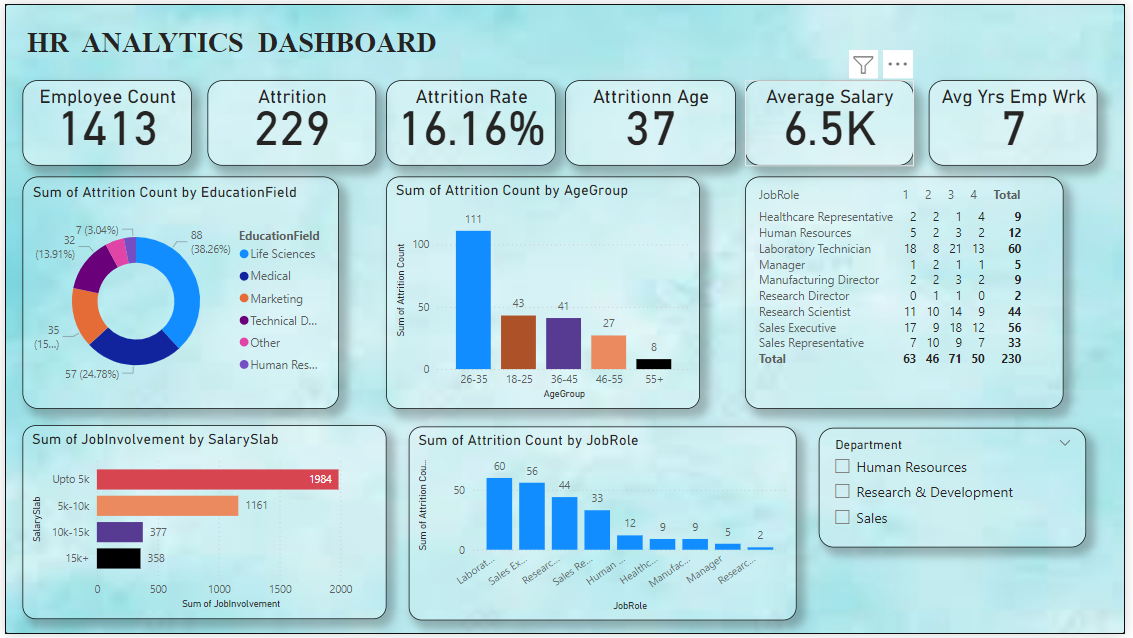

Layout of this report page (visuals, bound fields, positions):
{"tool":"powerbi","page":{"name":"Page 1","canvas":[1280,720],"ordinal":0},"visuals":[{"type":"textbox","box":[20,20,662.8,49],"z":0},{"type":"card","title":"Employee Count","fields":{"Values":["Count(HR_Analytics.EmpID)"]},"box":[20,87.5,193.8,97.5],"z":1000},{"type":"card","title":"Attrition","fields":{"Values":["Count(HR_Analytics.EmpID)"]},"box":[231.2,87.5,192.5,97.5],"z":2000},{"type":"card","title":"Attrition Rate","fields":{"Values":["HR_Analytics.Attrition Rate"]},"box":[436.2,87.5,193.8,97.5],"z":3000},{"type":"card","title":"Attritionn Age","fields":{"Values":["Avg(HR_Analytics.Age)"]},"box":[640,87.5,195,97.5],"z":4000},{"type":"card","title":"Average Salary","fields":{"Values":["Avg(HR_Analytics.MonthlyIncome)"]},"box":[846.2,87.5,192.5,97.5],"z":5000},{"type":"card","title":"Avg Yrs Emp Wrk","fields":{"Values":["Avg(HR_Analytics.YearsAtCompany)"]},"box":[1056.2,87.5,192.5,97.5],"z":6000},{"type":"donutChart","fields":{"Category":["HR_Analytics.EducationField"],"Y":["Sum(HR_Analytics.Attrition Count)"]},"box":[20,197.1,361.4,265.7],"z":7000},{"type":"clusteredColumnChart","fields":{"Y":["Sum(HR_Analytics.Attrition Count)"],"Category":["HR_Analytics.AgeGroup"]},"box":[435.7,197.1,358.6,265.7],"z":8000},{"type":"pivotTable","fields":{"Rows":["HR_Analytics.JobRole"],"Columns":["HR_Analytics.JobSatisfaction"],"Values":["Sum(HR_Analytics.Attrition Count)"]},"box":[845.7,197.1,364.3,265.7],"z":9000},{"type":"clusteredBarChart","fields":{"Y":["Sum(HR_Analytics.JobInvolvement)"],"Category":["HR_Analytics.SalarySlab"]},"box":[20,481.4,415.7,221.4],"z":10000},{"type":"columnChart","fields":{"Category":["HR_Analytics.JobRole"],"Y":["Sum(HR_Analytics.Attrition Count)"]},"box":[461.4,482.9,442.9,221.4],"z":11000},{"type":"slicer","fields":{"Values":["HR_Analytics.Department"]},"box":[929.8,484.5,305.9,136.7],"z":11001}]}

Visuals, with their boxes in screenshot pixels (x1, y1, x2, y2), scaled from the page's 1280x720 canvas onto the 1133x638 screenshot:
textbox: l=18, t=18, r=604, b=61
"Employee Count" card: l=18, t=78, r=189, b=164
"Attrition" card: l=205, t=78, r=375, b=164
"Attrition Rate" card: l=386, t=78, r=558, b=164
"Attritionn Age" card: l=566, t=78, r=739, b=164
"Average Salary" card: l=749, t=78, r=919, b=164
"Avg Yrs Emp Wrk" card: l=935, t=78, r=1105, b=164
donutChart - HR_Analytics.EducationField x Sum(HR_Analytics.Attrition Count): l=18, t=175, r=338, b=410
clusteredColumnChart - Sum(HR_Analytics.Attrition Count) x HR_Analytics.AgeGroup: l=386, t=175, r=703, b=410
pivotTable - HR_Analytics.JobRole x HR_Analytics.JobSatisfaction: l=749, t=175, r=1071, b=410
clusteredBarChart - Sum(HR_Analytics.JobInvolvement) x HR_Analytics.SalarySlab: l=18, t=427, r=386, b=623
columnChart - HR_Analytics.JobRole x Sum(HR_Analytics.Attrition Count): l=408, t=428, r=800, b=624
slicer - HR_Analytics.Department: l=823, t=429, r=1094, b=550
